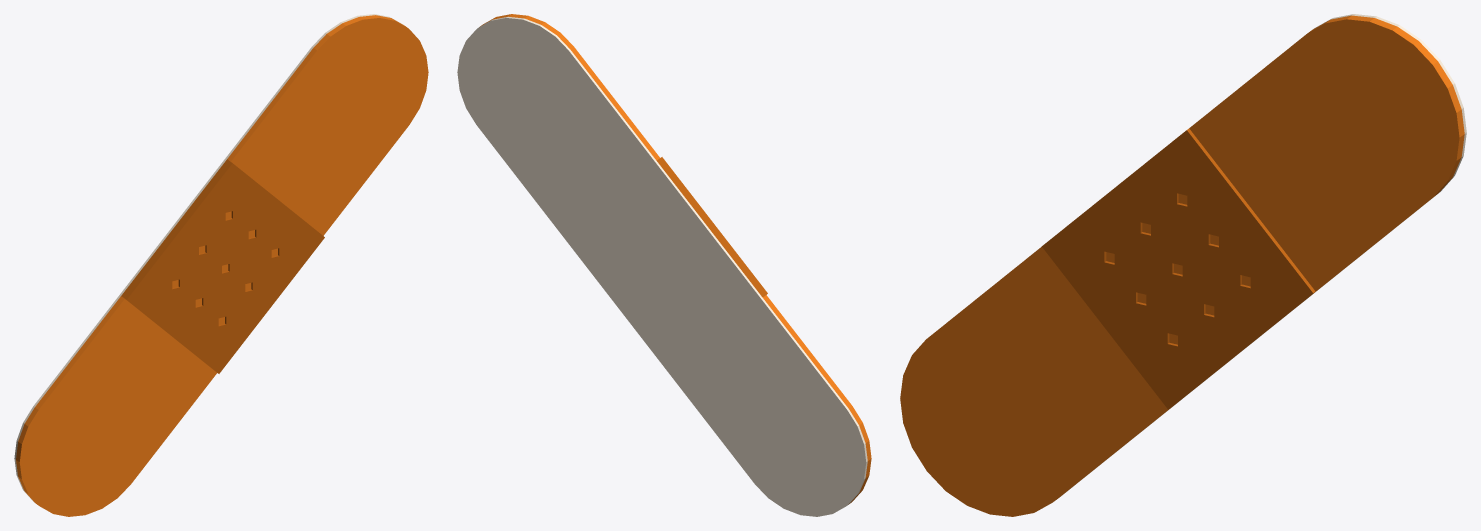
The model's file is adhesive_bandage.gltf.
The picture shows the model from 3 angles, left to right: view 1: azimuth 30°, elevation 25°; view 2: azimuth 150°, elevation 25°; view 3: azimuth 330°, elevation 25°; orthographic projection. The views are drawn at different scales.
Visible parts, largest first — view 1: Cube.1006; view 2: Cube.1006; view 3: Cube.1006.
Part boxes in pixels (box(x1,y1,x2,y2)): Cube.1006: box(14, 14, 428, 516); Cube.1006: box(457, 14, 871, 516); Cube.1006: box(900, 14, 1466, 516).
Bounding box in the file's own units: 2.19 × 2.19 × 0.0654.
1 material, 1 textured.
